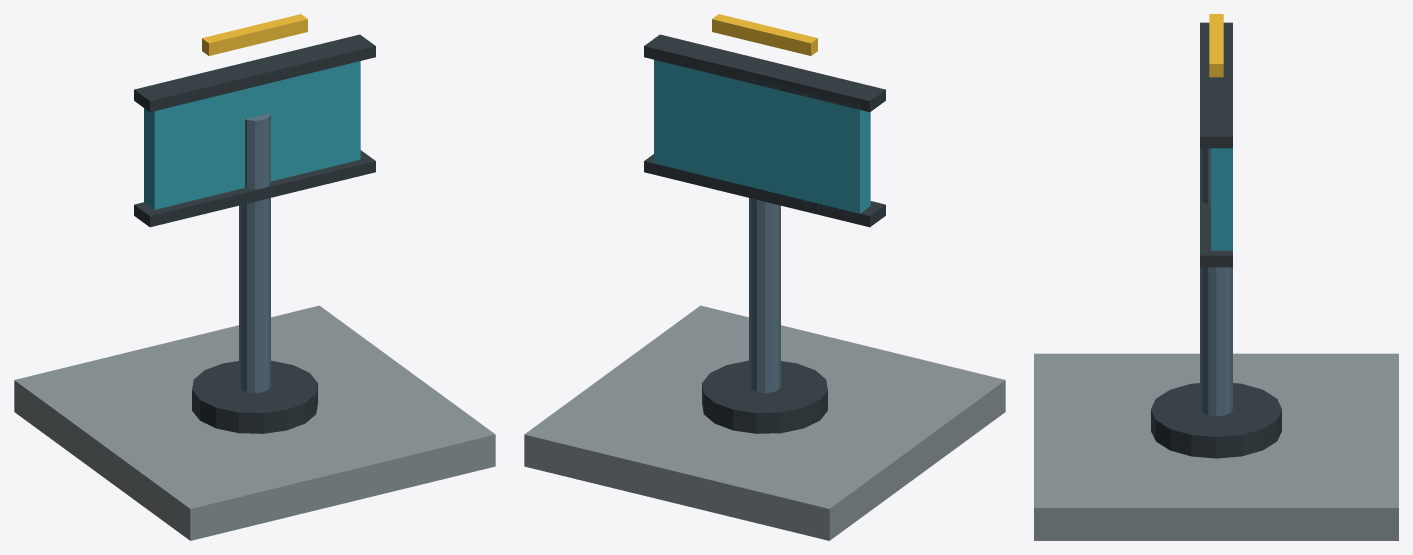
File: MOD_Radar.glb
3 renders of one model, left to right at view 1: azimuth 30°, elevation 25°; view 2: azimuth 150°, elevation 25°; view 3: azimuth 270°, elevation 25°, orthographic. The views are drawn at different scales.
Visible parts, largest first — view 1: RadarDeckPlate, RadarArray, RadarMast, RadarBase, ArrayFrameTop, ArrayFrameBottom, IFFBar; view 2: RadarDeckPlate, RadarArray, RadarBase, ArrayFrameTop, RadarMast, ArrayFrameBottom, IFFBar; view 3: RadarDeckPlate, RadarBase, RadarMast, ArrayFrameTop, RadarArray, ArrayFrameBottom, IFFBar.
Part boxes in pixels (box(x1,y1,x2,y2)): RadarDeckPlate: box(14, 305, 495, 540); RadarArray: box(144, 61, 360, 209); RadarMast: box(239, 113, 270, 393); RadarBase: box(192, 360, 317, 433); ArrayFrameTop: box(134, 34, 375, 112); ArrayFrameBottom: box(134, 150, 375, 227); IFFBar: box(202, 14, 307, 55); RadarDeckPlate: box(524, 305, 1005, 540); RadarArray: box(654, 59, 870, 215); RadarBase: box(702, 360, 827, 433); ArrayFrameTop: box(644, 34, 885, 112); RadarMast: box(749, 198, 780, 393); ArrayFrameBottom: box(644, 154, 885, 227); IFFBar: box(712, 14, 817, 55); RadarDeckPlate: box(1034, 353, 1398, 540); RadarBase: box(1151, 383, 1281, 458); RadarMast: box(1200, 148, 1232, 416); ArrayFrameTop: box(1200, 22, 1232, 148); RadarArray: box(1211, 148, 1232, 250); ArrayFrameBottom: box(1200, 199, 1232, 267); IFFBar: box(1209, 14, 1223, 77).
Bounding box in the file's own units: 2 × 2.57 × 2.
